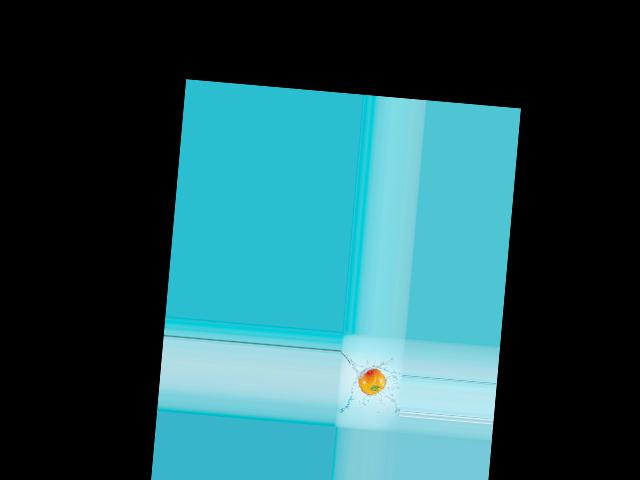tomato: (357, 367, 387, 396)
